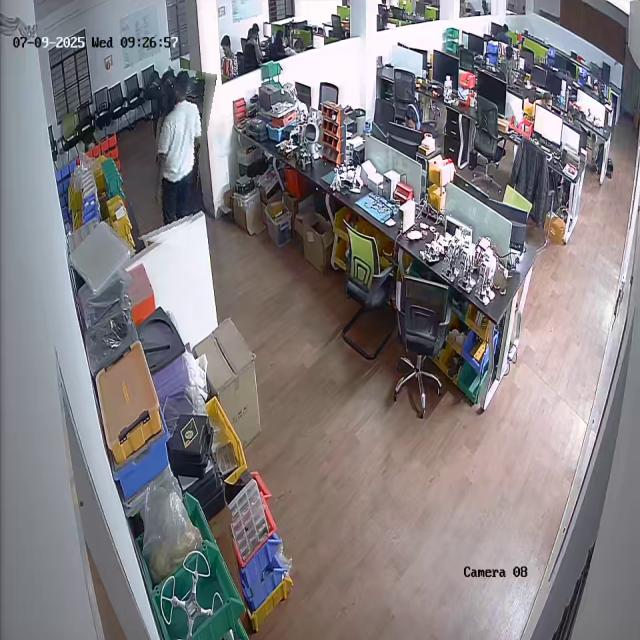person: (145, 68, 210, 246)
